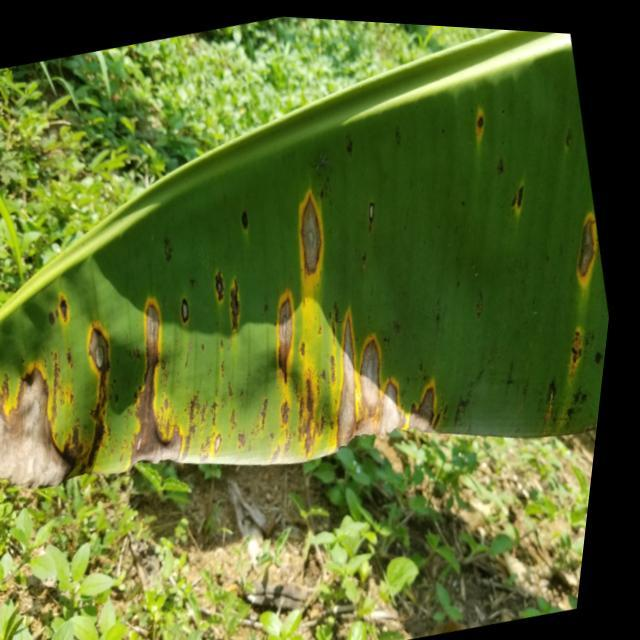Early_rust: (0, 83, 615, 476)
